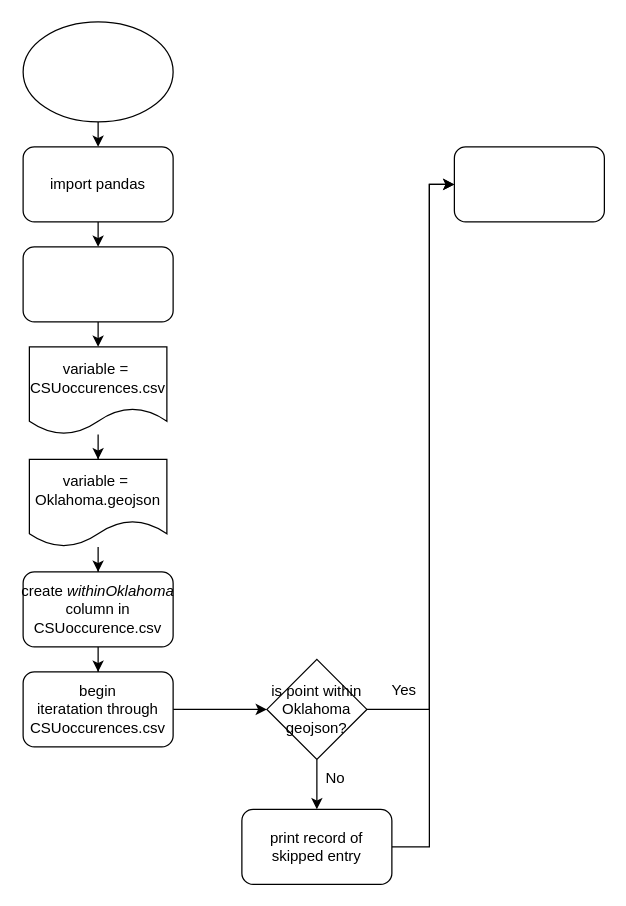
Some shapes in this 626 by 906 pixel diagram are drawn without their labels. The shapes that lost their labels are listed below. From the top down, each one's centre as x and y in pixels, then its label:
At (97,71): "begin process".
At (528,184): "continue through iteration.".
At (97,284): "import geoPandas".
